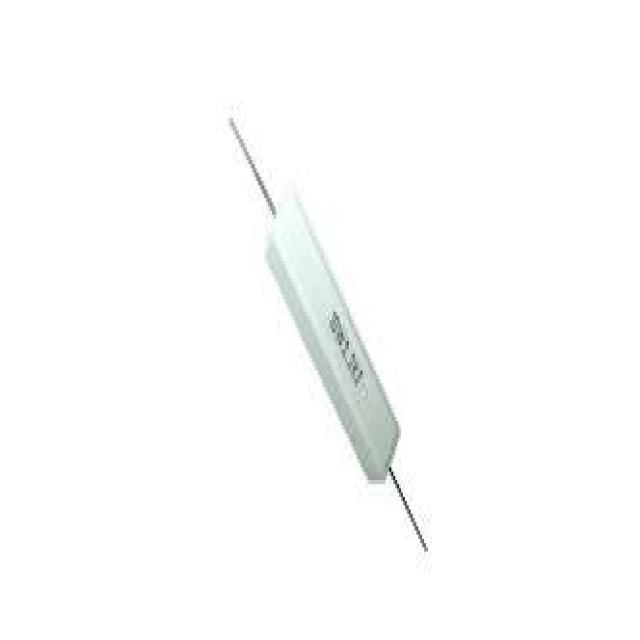Resistor: (263, 186, 400, 488)
